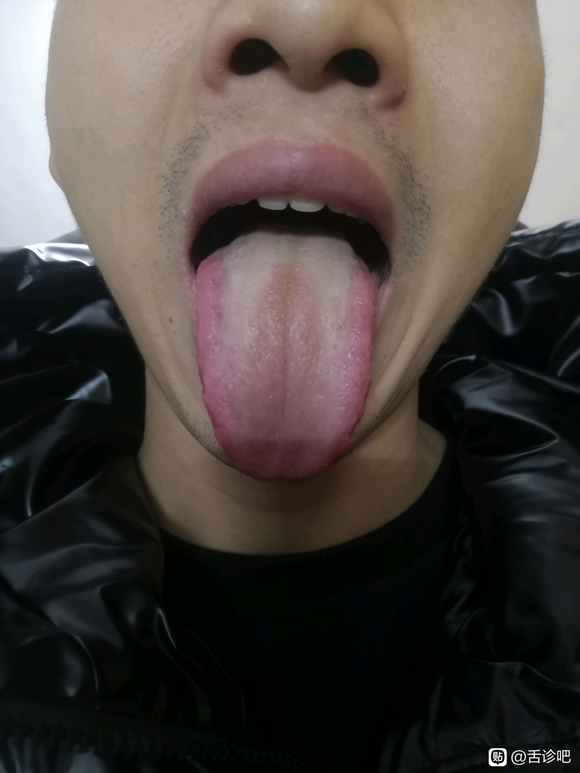hongshe: (197, 223, 377, 477)
huangtaishe: (197, 223, 377, 477)
